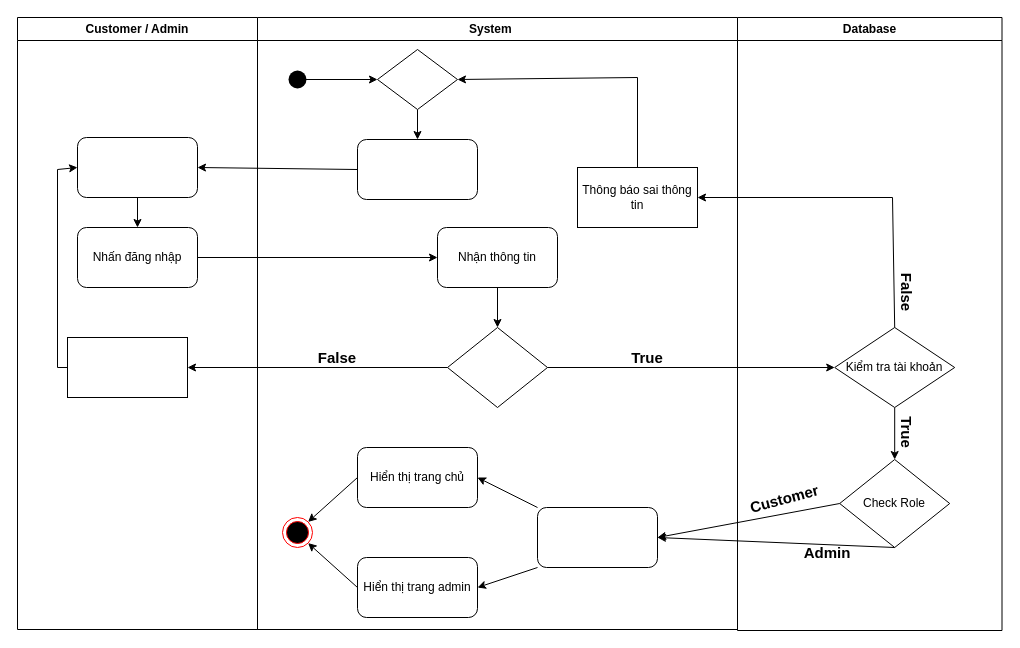
The diagram is 1020 pixels wide and 648 high, and some of its shapes have lost their labels. Here are the shapes that lost their labels. From the top down, the centre of each, then its label:
point 137,167: Nhập tài khoản và mật khẩu
point 417,169: Hiện form đăng nhập
point 127,367: Thông báo lỗi validate
point 497,367: Validate dữ liệu
point 597,537: Tạo session / cookie
